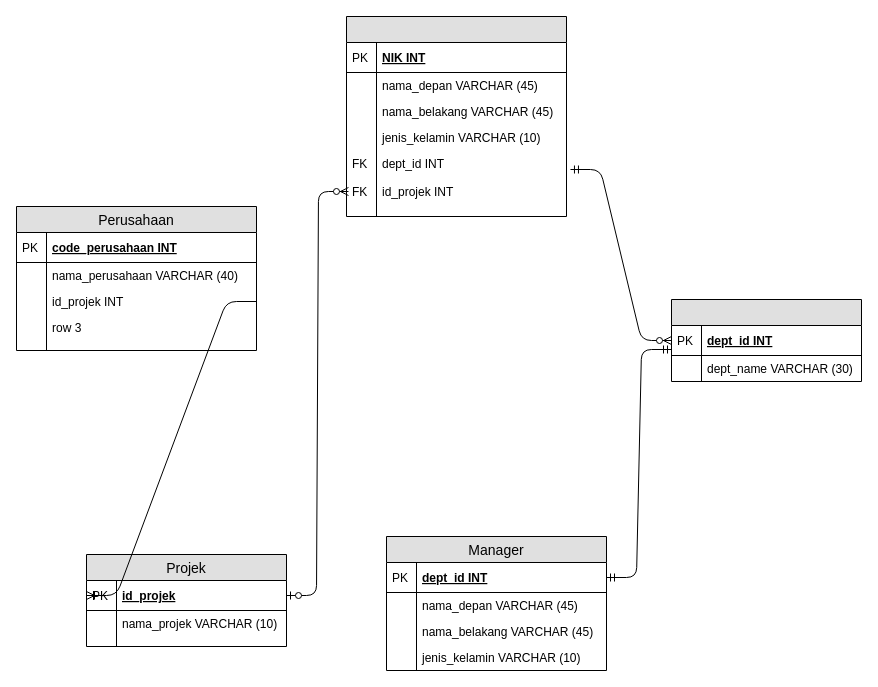
Some shapes in this 878 by 687 pixel diagram are drawn without their labels. Here are the shapes that lost their labels. From the top down, the box of each, then its label:
(346, 16, 566, 216): Karyawan
(670, 298, 862, 382): Departement
